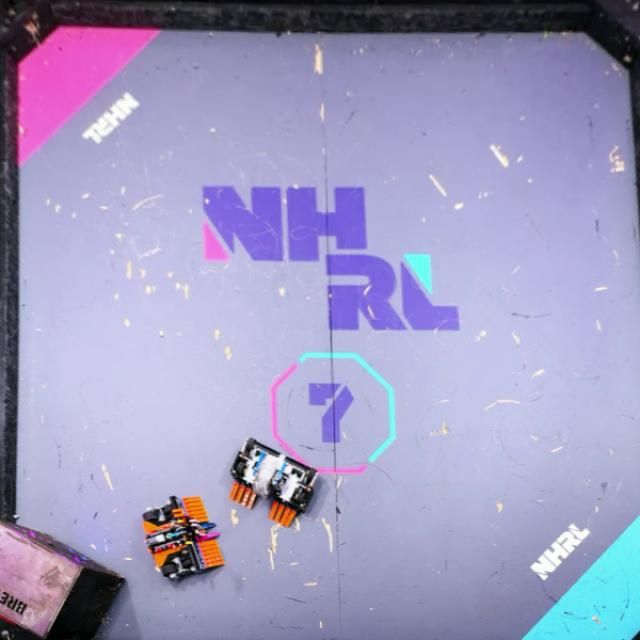housebot: (0, 523, 125, 640)
robot: (229, 437, 319, 528), (142, 494, 226, 582)
